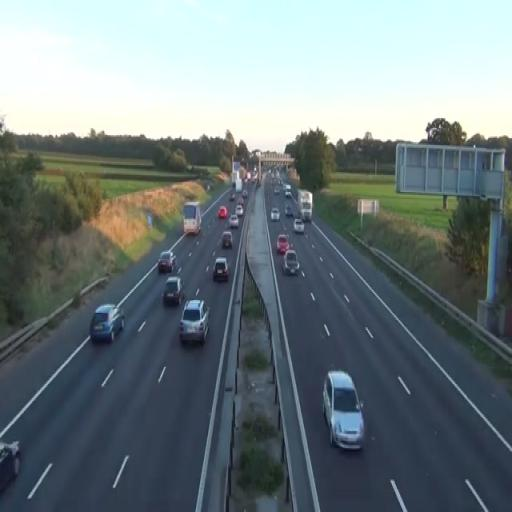Bus: (182, 202, 202, 236)
Car: (322, 368, 366, 450), (90, 303, 125, 343), (179, 299, 210, 344), (0, 440, 22, 494), (161, 277, 185, 305), (282, 250, 300, 275), (212, 258, 230, 282), (158, 250, 176, 273), (222, 230, 232, 250), (294, 219, 304, 235), (229, 213, 238, 229), (218, 206, 228, 220), (271, 207, 280, 221)
Truck: (182, 202, 202, 236), (297, 188, 313, 222)
